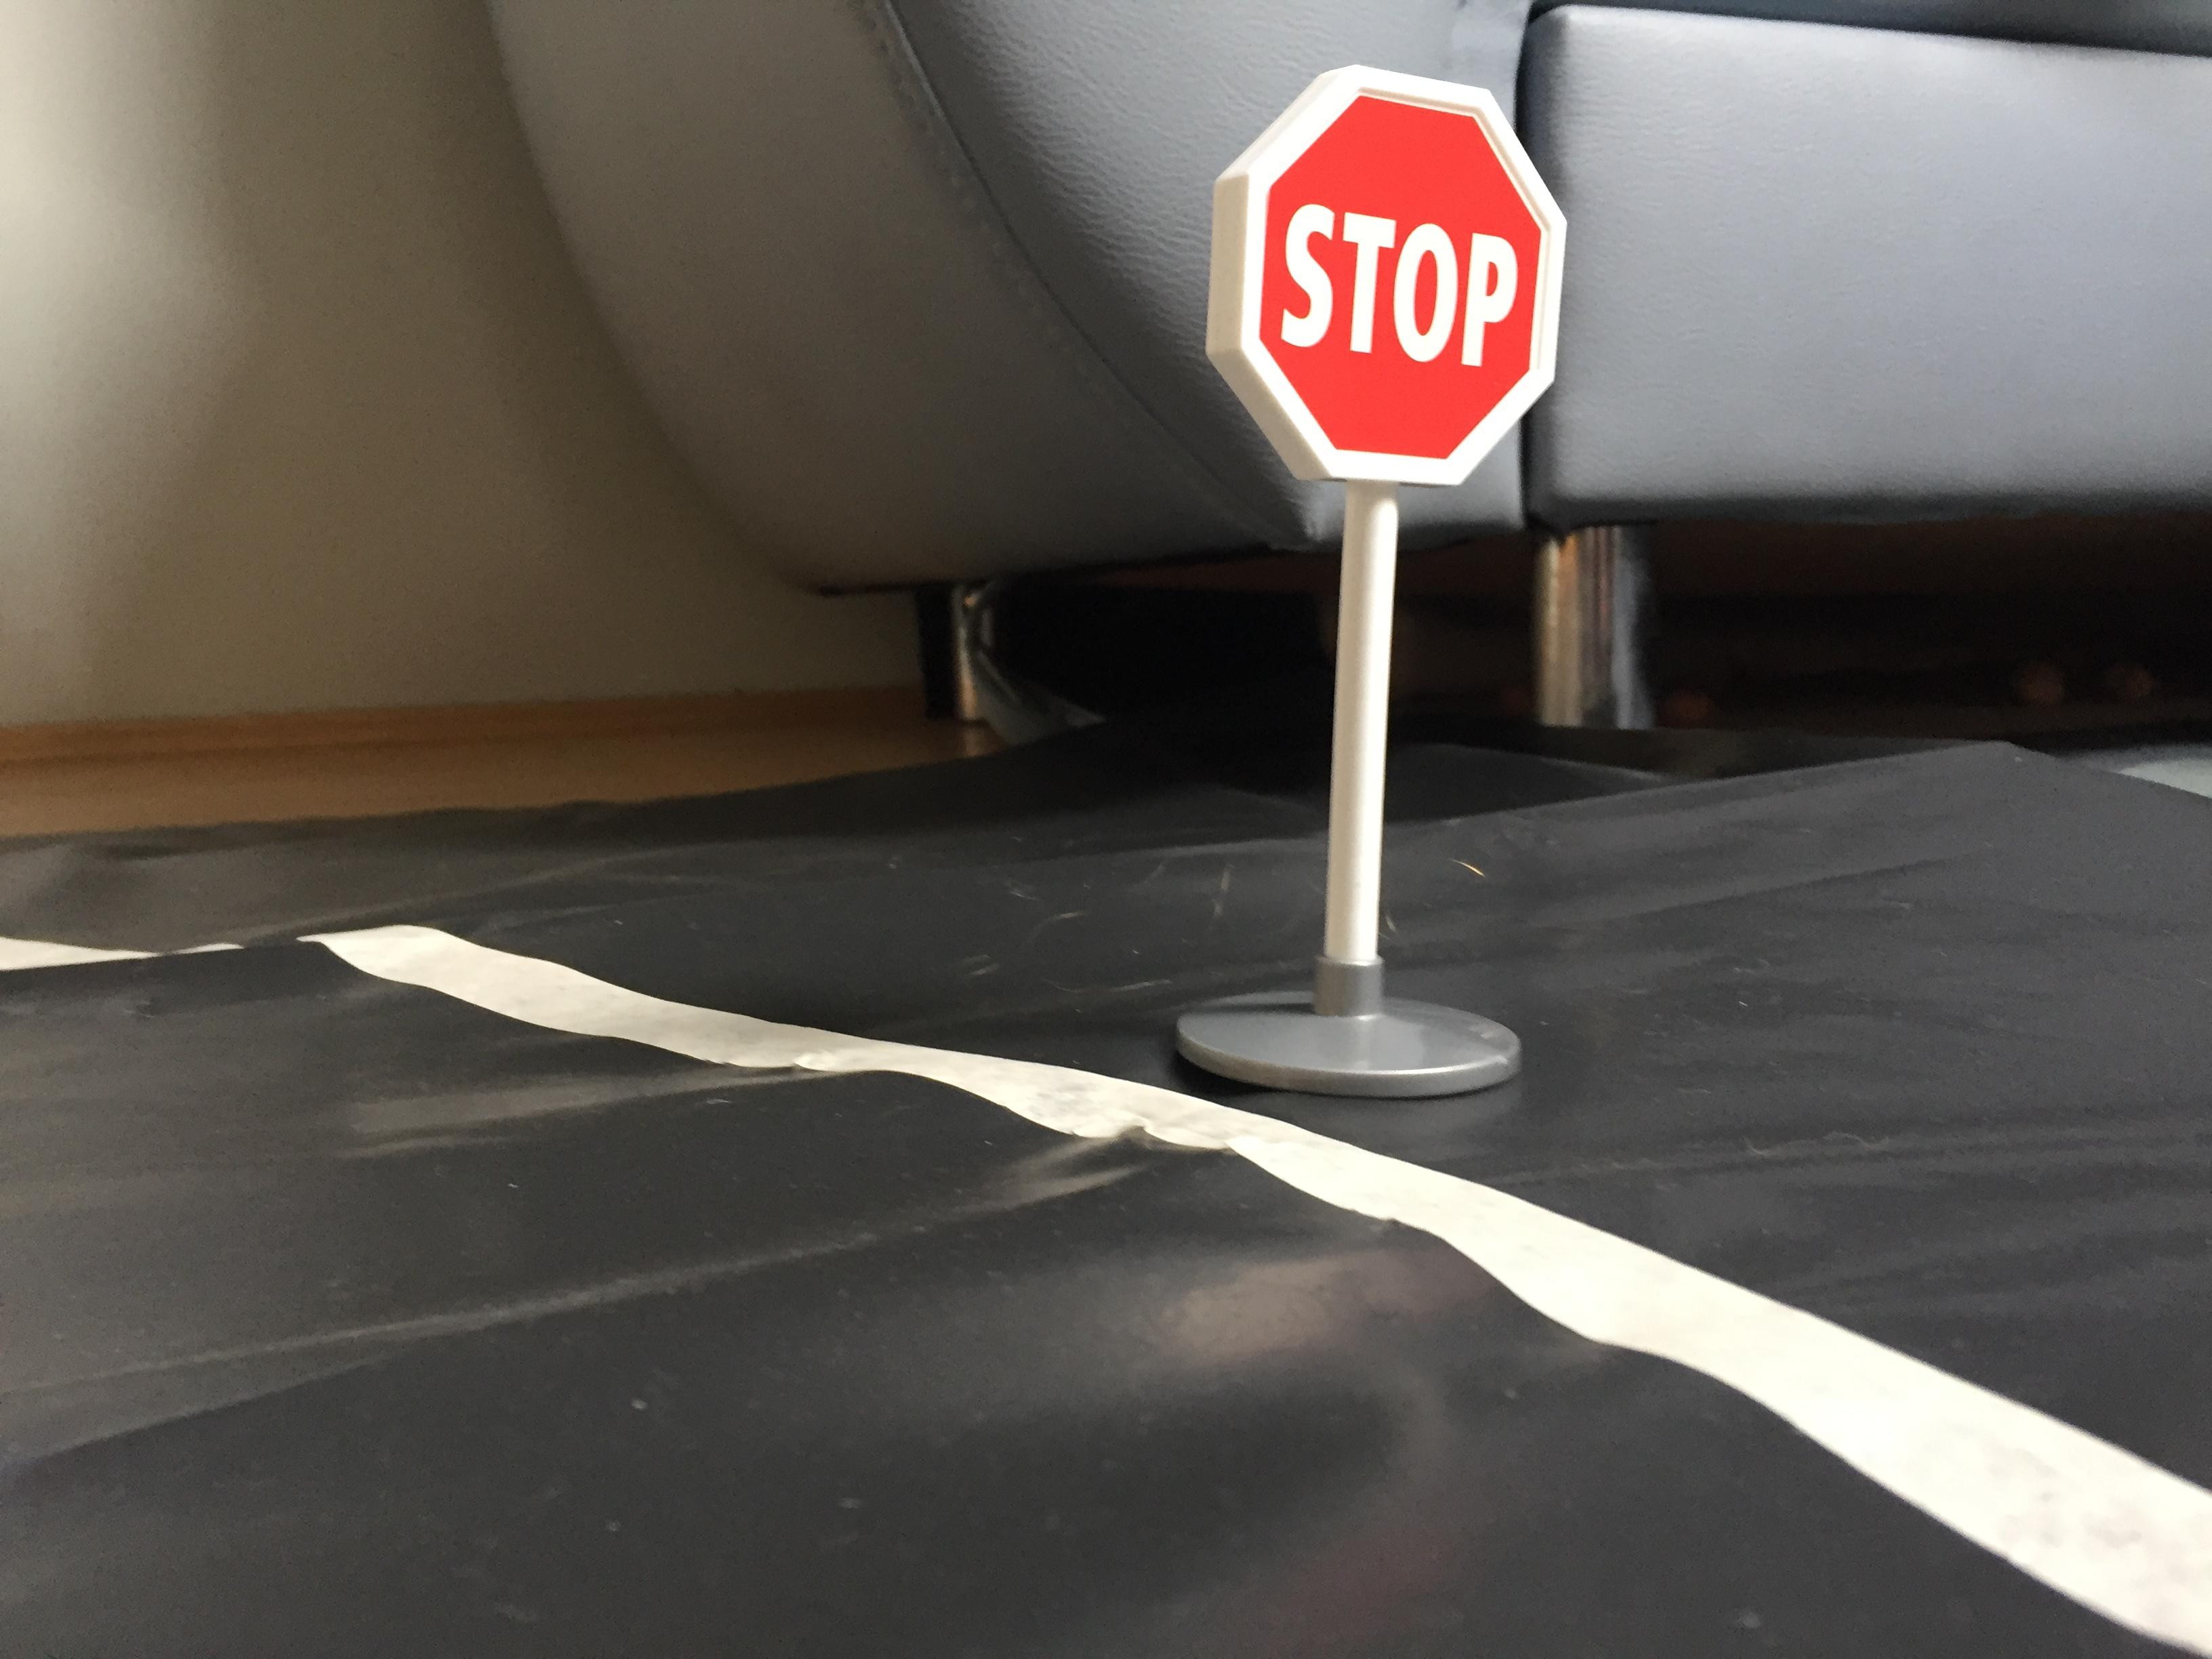stop: (1188, 56, 1571, 497)
